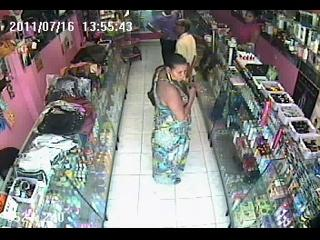Normal: (150, 53, 198, 185), (146, 11, 182, 65), (174, 19, 197, 78)
